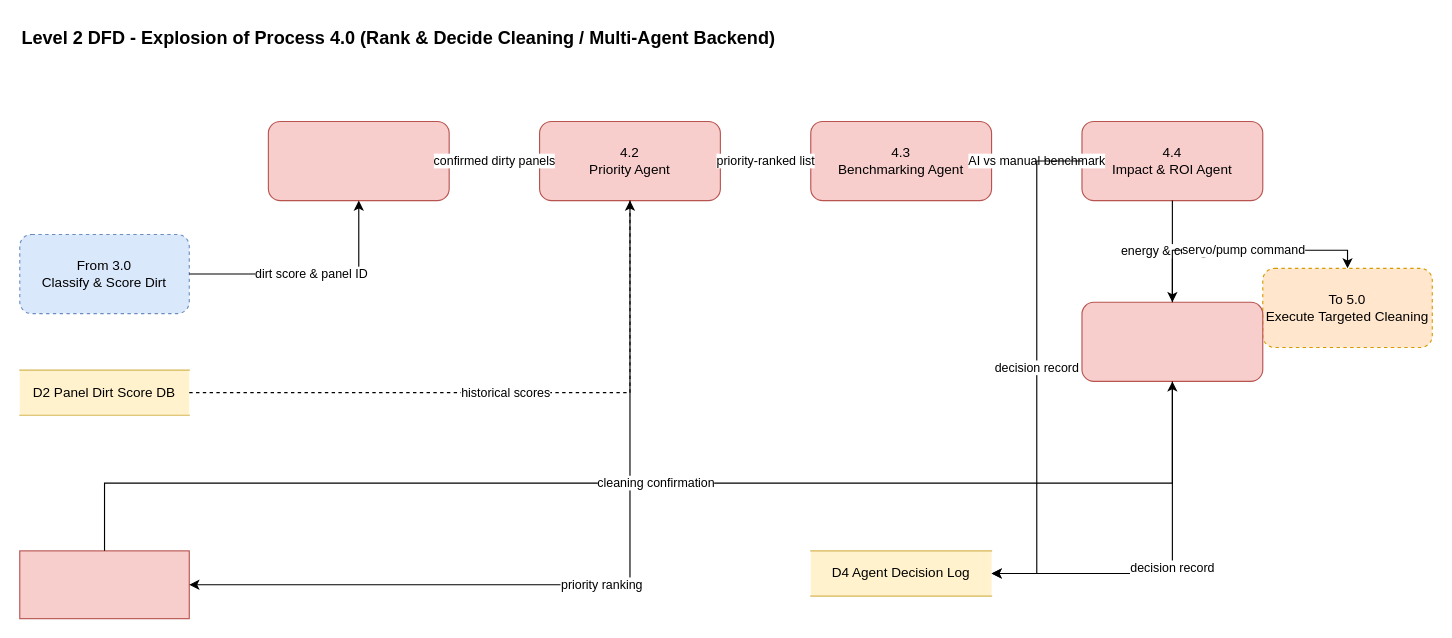
The diagram is 1452 pixels wide and 638 high, and some of its shapes have lost their labels. Each missing label, with the centre of its shape:
"4.1 Confidence Agent" belongs at [358,160].
"4.5 Water & Action Optimizer" belongs at [1172,341].
"Plant Operator / Admin" belongs at [104,584].
